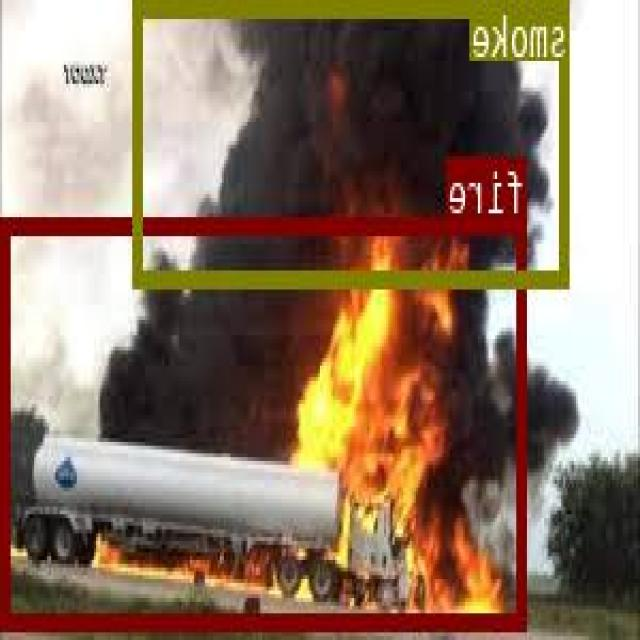fire: (4, 215, 528, 625)
smoke: (135, 0, 570, 286)
